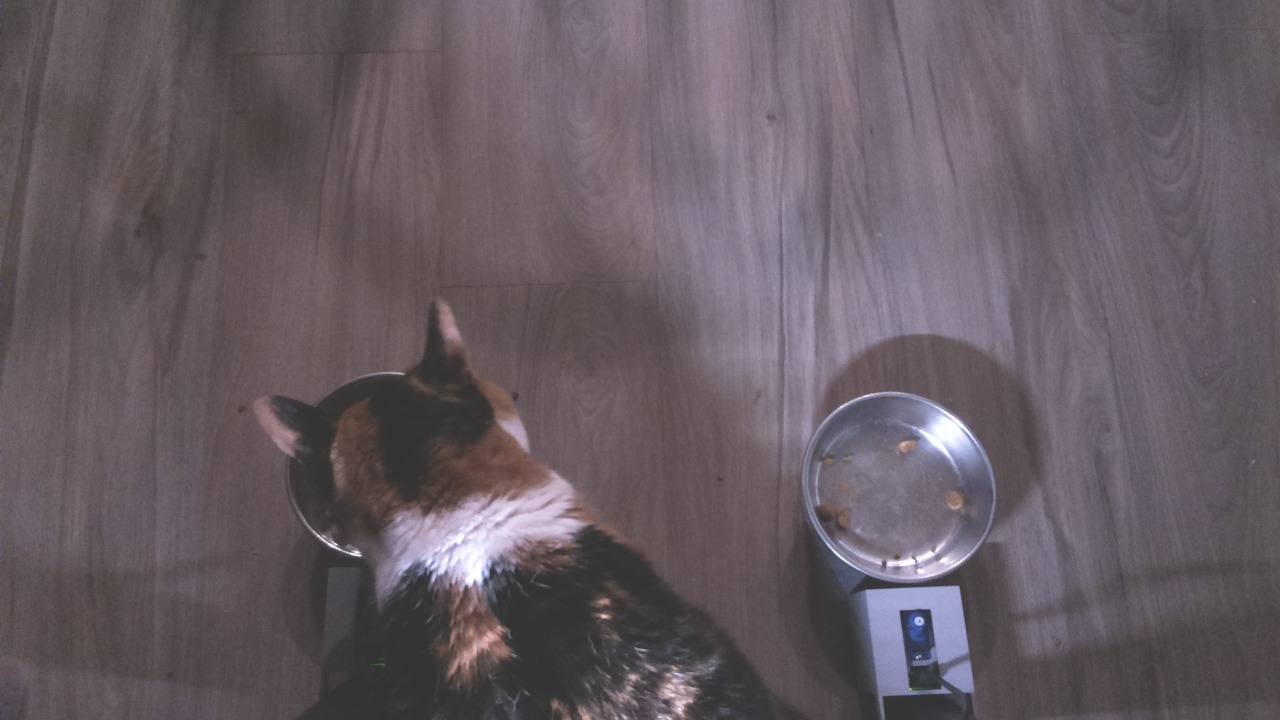bella_eating: (230, 285, 594, 608)
open_bowl: (793, 385, 1005, 592)
